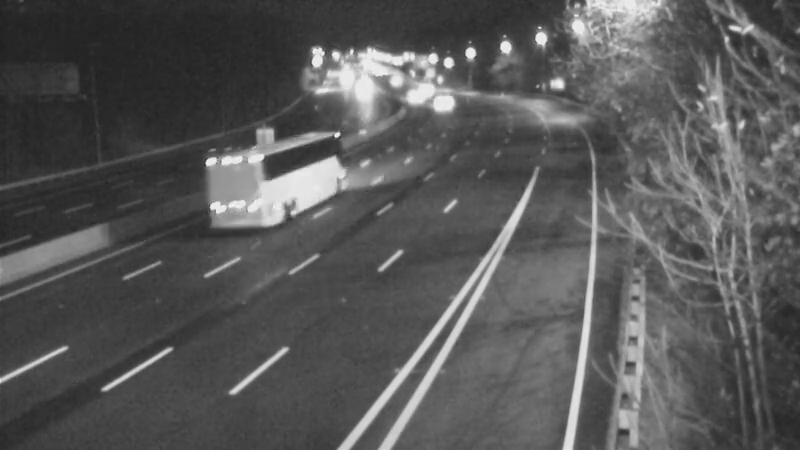vehicle: (237, 144, 317, 224), (385, 71, 435, 121), (423, 77, 473, 127)
